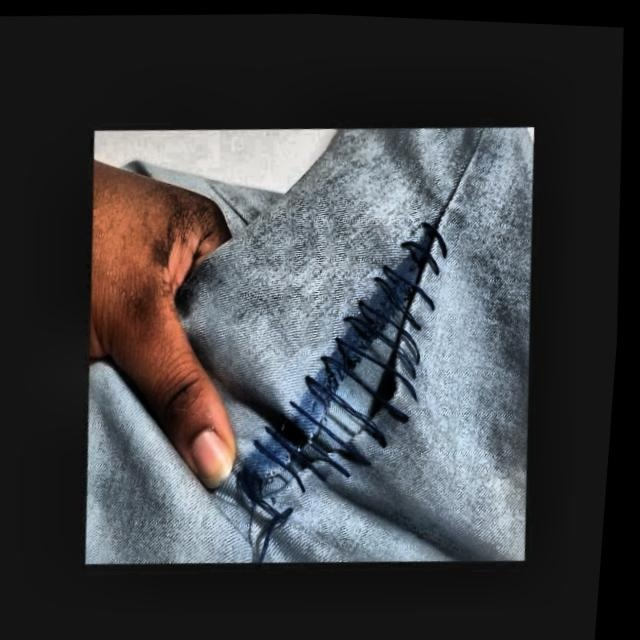Stitch: (196, 179, 534, 572)
